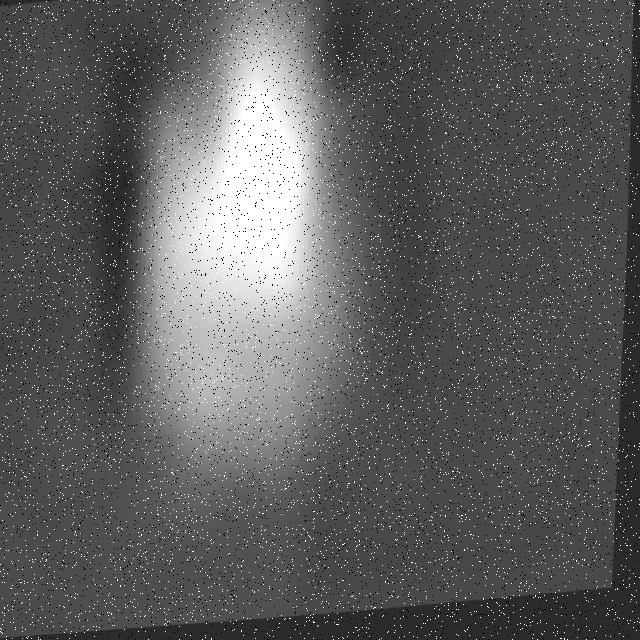person: (116, 1, 390, 470)
